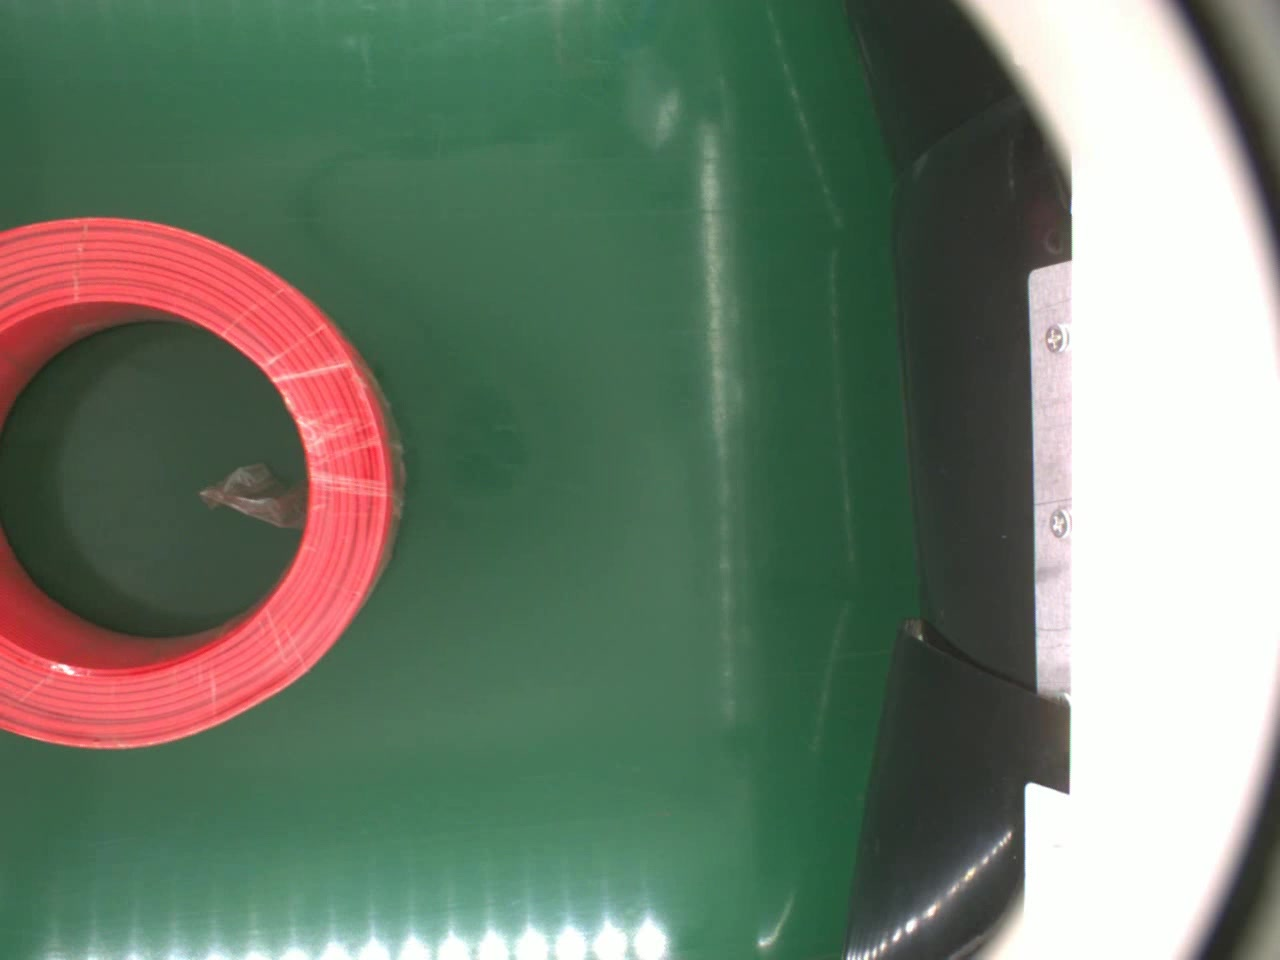red: (0, 210, 408, 751)
